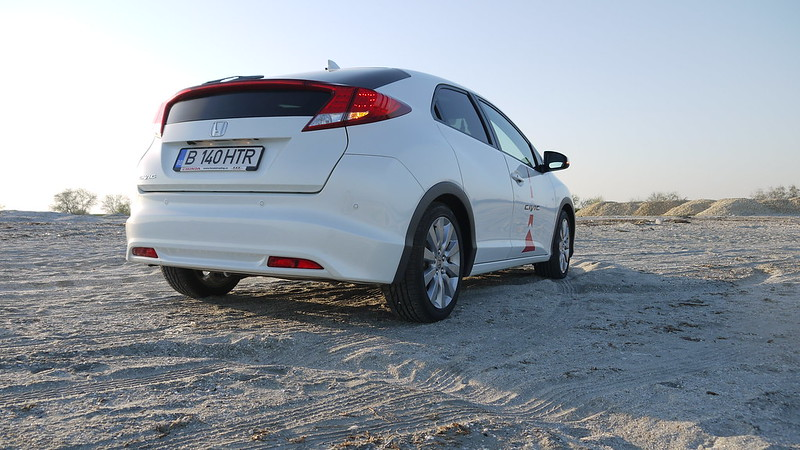car: (123, 57, 589, 327)
